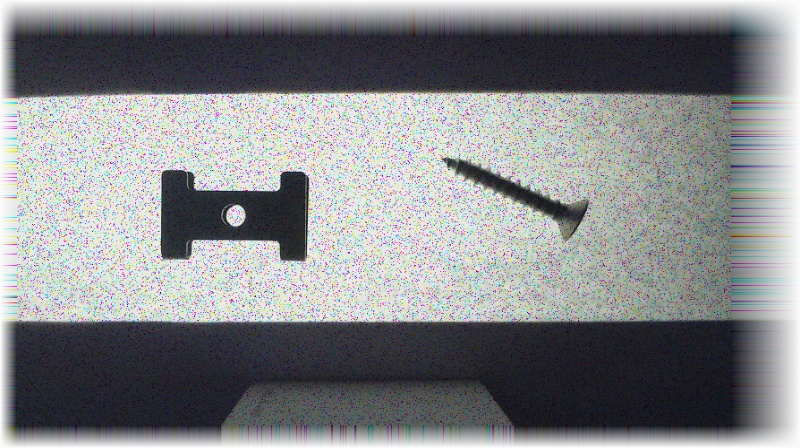O002: (161, 167, 311, 263)
S001: (441, 156, 589, 239)
